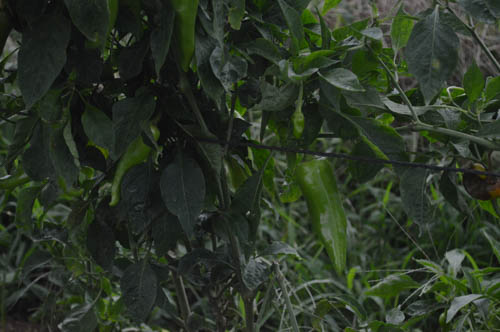ChiliPepper: (301, 157, 350, 272), (110, 127, 161, 204), (172, 2, 199, 71)
